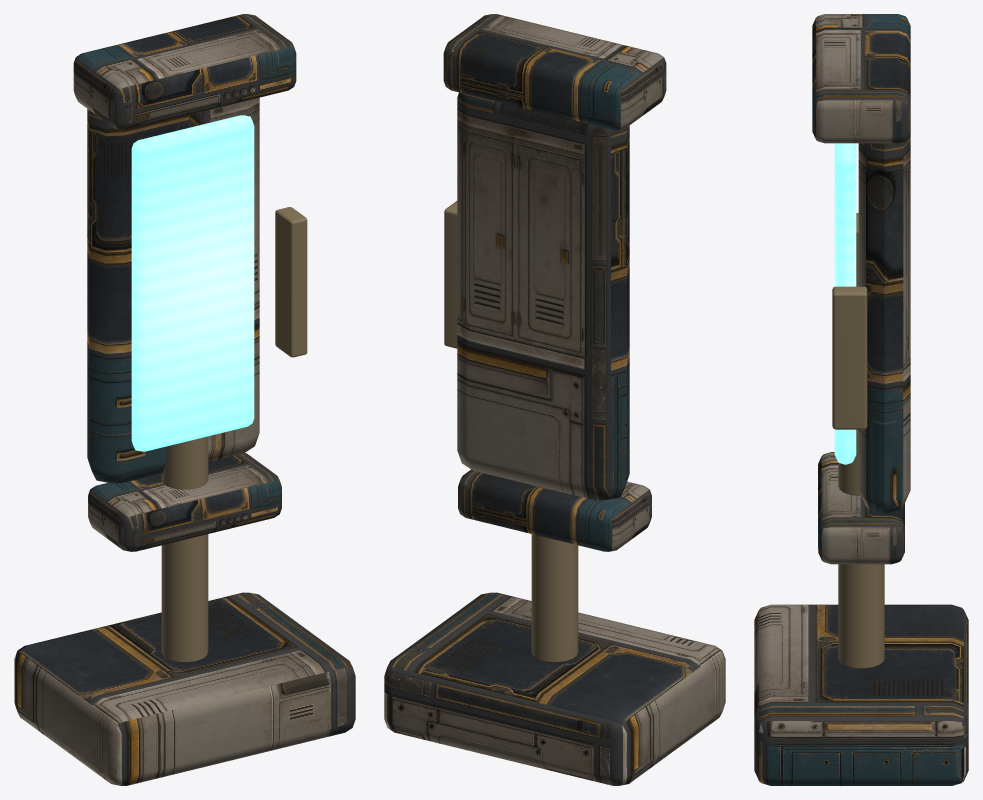
Rendered from hp_light_residential_lamp_blue.glb.
3 renders of one model, left to right at view 1: azimuth 30°, elevation 25°; view 2: azimuth 150°, elevation 25°; view 3: azimuth 270°, elevation 25°, orthographic.
Parts seen in each view (by area): view 1: weighted_floor_base, front_glowing_lens, lamp_back_housing, top_cap_dark, bottom_cap_dark, vertical_service_spine, small_side_handle; view 2: lamp_back_housing, weighted_floor_base, top_cap_dark, bottom_cap_dark, vertical_service_spine, small_side_handle; view 3: weighted_floor_base, lamp_back_housing, top_cap_dark, bottom_cap_dark, vertical_service_spine, small_side_handle, front_glowing_lens.
Boxes of the visible parts, x1,y1,x2,y2 form: weighted_floor_base: [14, 592, 355, 785]; front_glowing_lens: [131, 115, 254, 451]; lamp_back_housing: [87, 97, 259, 483]; top_cap_dark: [73, 14, 296, 129]; bottom_cap_dark: [88, 453, 281, 551]; vertical_service_spine: [161, 436, 208, 661]; small_side_handle: [275, 207, 307, 357]; lamp_back_housing: [457, 92, 629, 500]; weighted_floor_base: [384, 592, 725, 785]; top_cap_dark: [443, 14, 666, 129]; bottom_cap_dark: [458, 469, 651, 551]; vertical_service_spine: [531, 486, 578, 661]; small_side_handle: [444, 201, 457, 348]; weighted_floor_base: [754, 604, 968, 785]; lamp_back_housing: [858, 132, 910, 513]; top_cap_dark: [812, 14, 910, 143]; bottom_cap_dark: [818, 452, 904, 564]; vertical_service_spine: [838, 213, 884, 668]; small_side_handle: [832, 286, 867, 429]; front_glowing_lens: [834, 143, 856, 464].
Bounding box in the file's own units: 0.5609 × 1.47 × 0.4225.
Materials: 4 (3 with a texture image).
